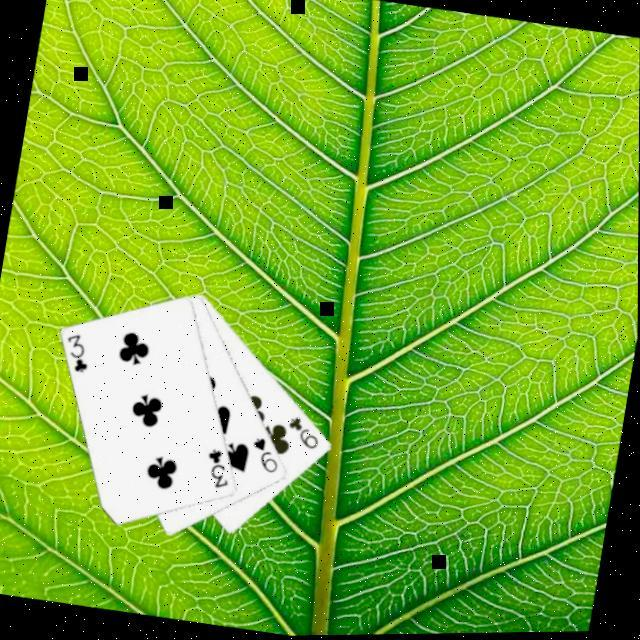3C: (58, 329, 96, 378), (200, 447, 237, 495)
9C: (282, 413, 325, 455)
9S: (245, 434, 285, 478)
